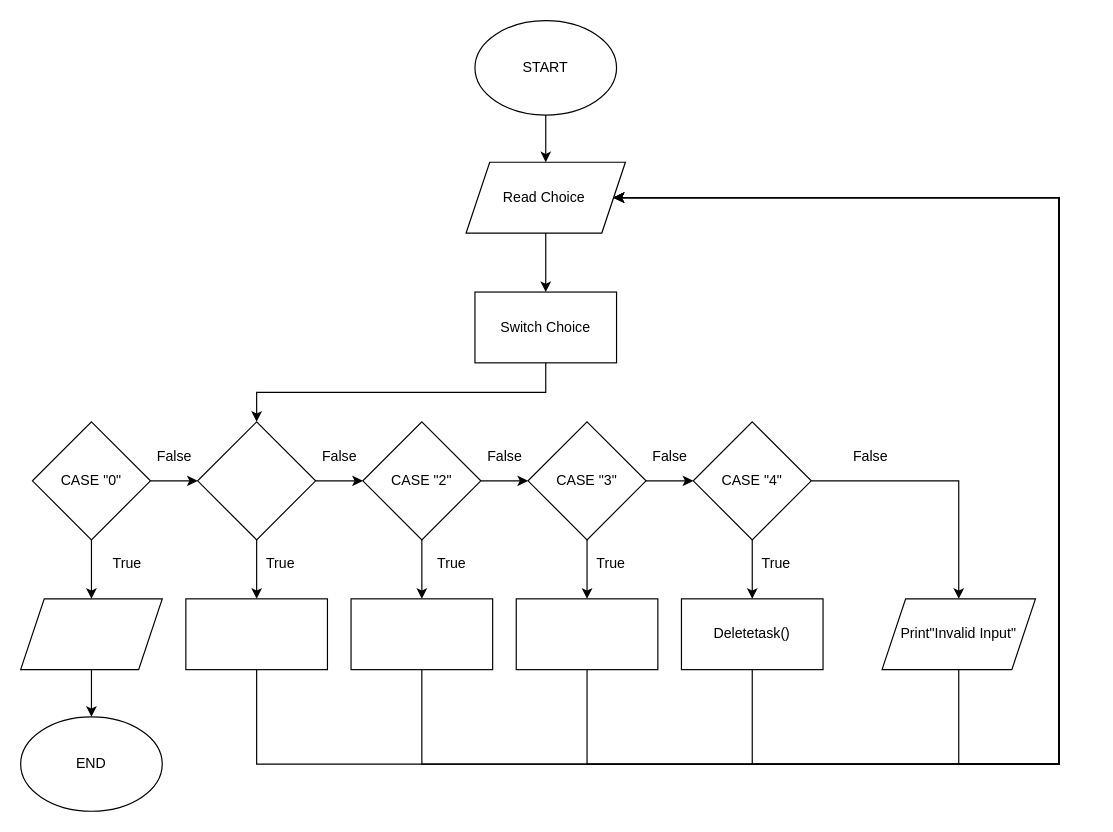
Some shapes in this 1113 by 832 pixel diagram are drawn without their labels. Here are the shapes that lost their labels. From the top down, the centre of each, then its label:
pixel 256 480: CASE "1"
pixel 90 634: Print "Goodbye"
pixel 256 634: Addtask()
pixel 421 634: Viewtask()
pixel 586 634: Updatetask()
